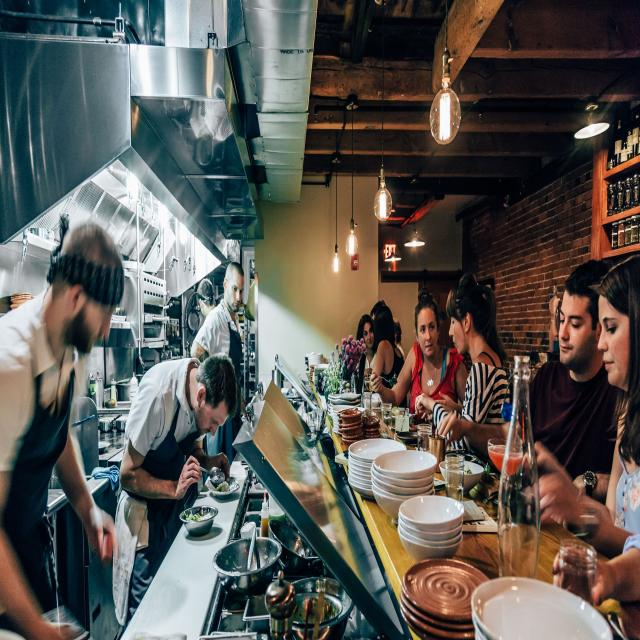human: (111, 341, 244, 617), (527, 266, 611, 478), (587, 266, 640, 526), (192, 247, 253, 465), (441, 266, 505, 435), (400, 294, 452, 416), (347, 300, 385, 396)
